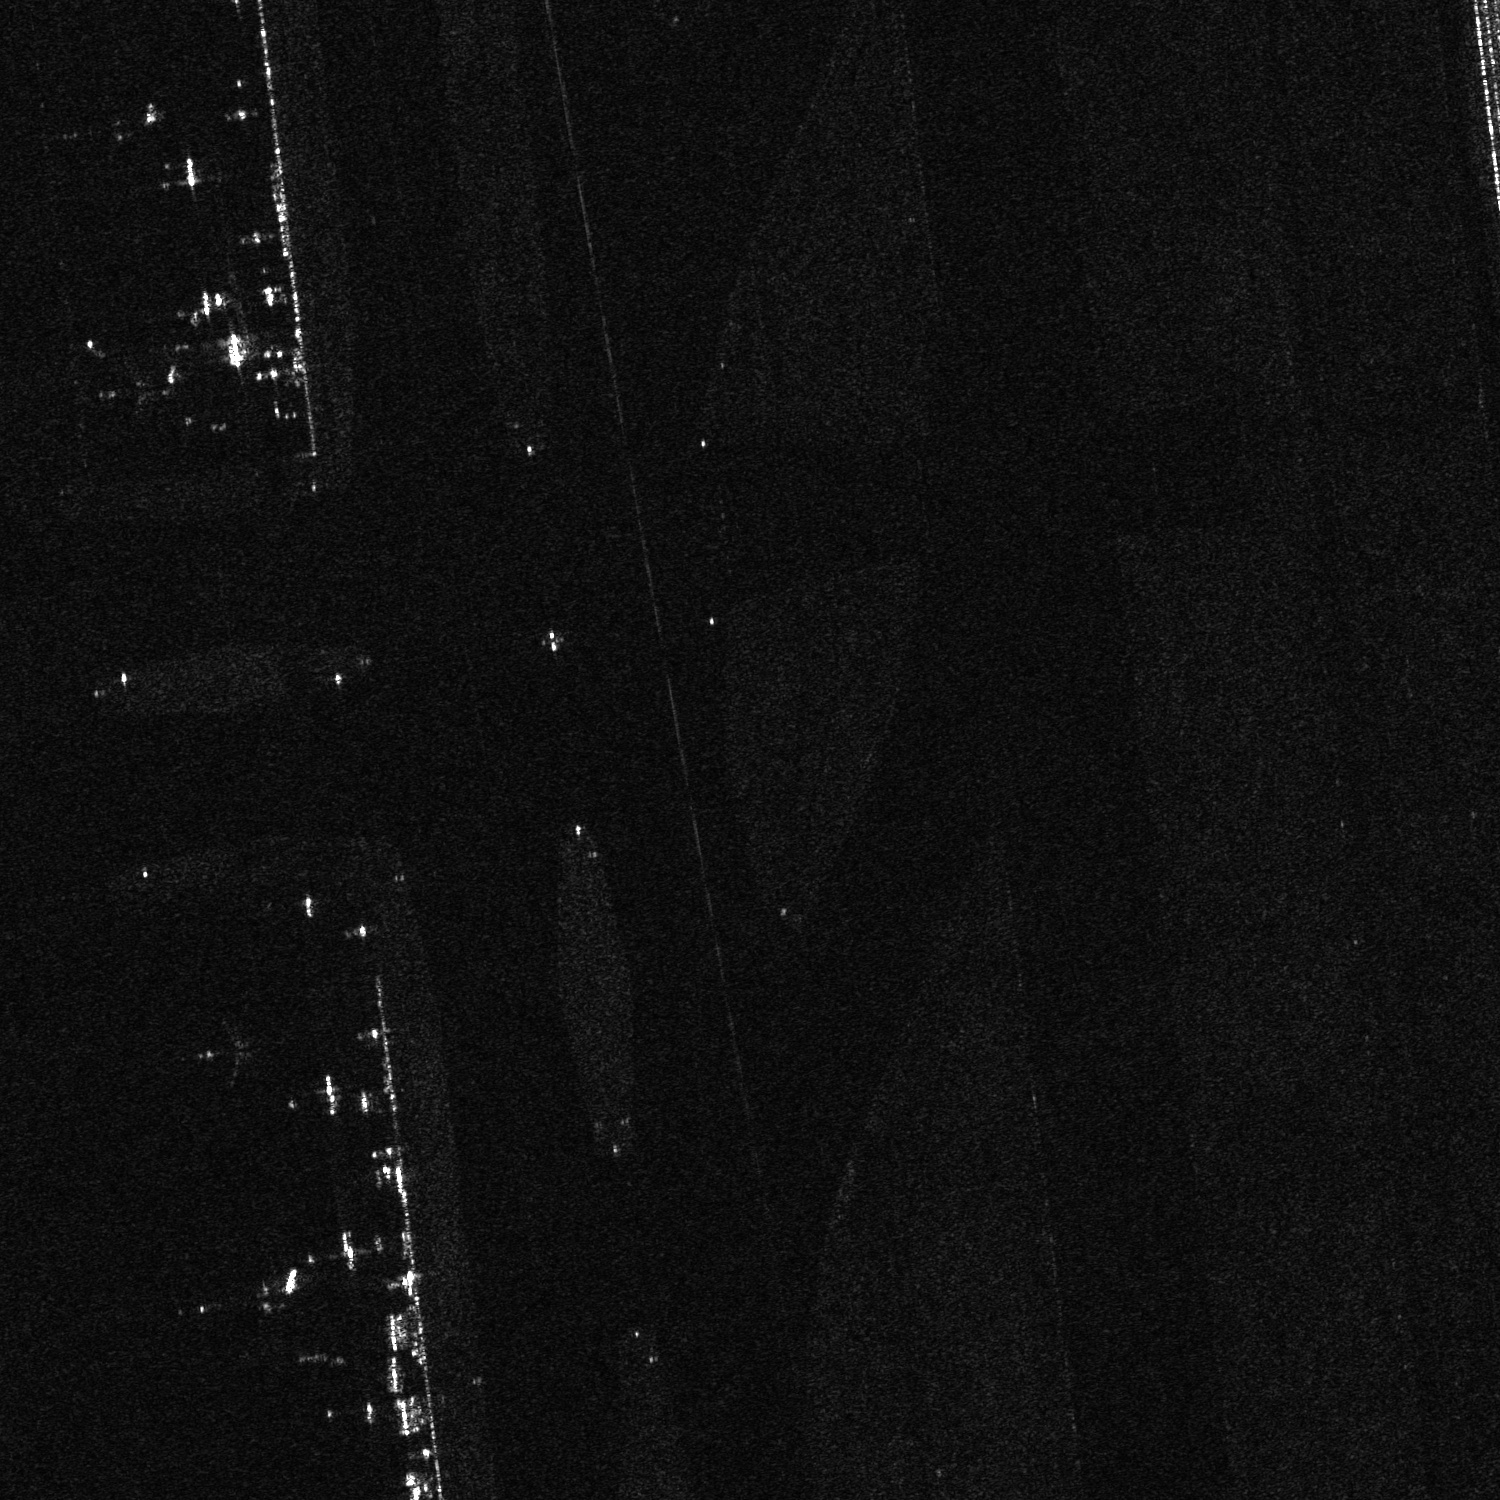Boeing737: (184, 1012, 264, 1095)
